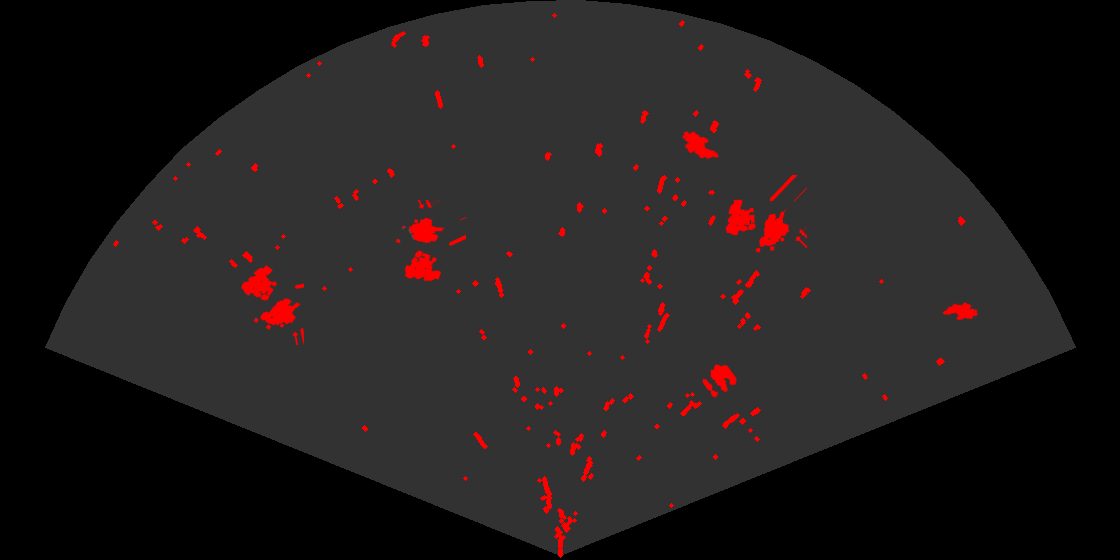AUV: (680, 130, 721, 161), (941, 300, 980, 322)
ball: (701, 363, 738, 399)
cage: (724, 175, 807, 254), (394, 200, 466, 283), (240, 264, 304, 345)
